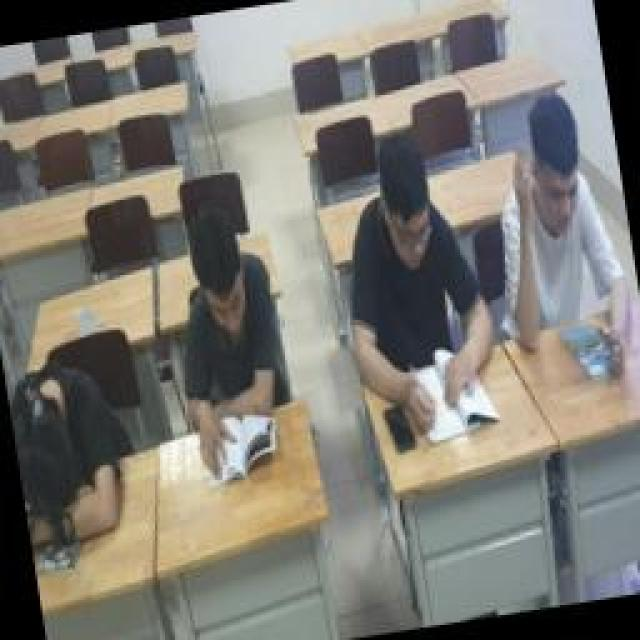sleep: (5, 360, 135, 555)
study: (322, 133, 510, 455), (482, 88, 640, 382), (160, 192, 312, 478)
